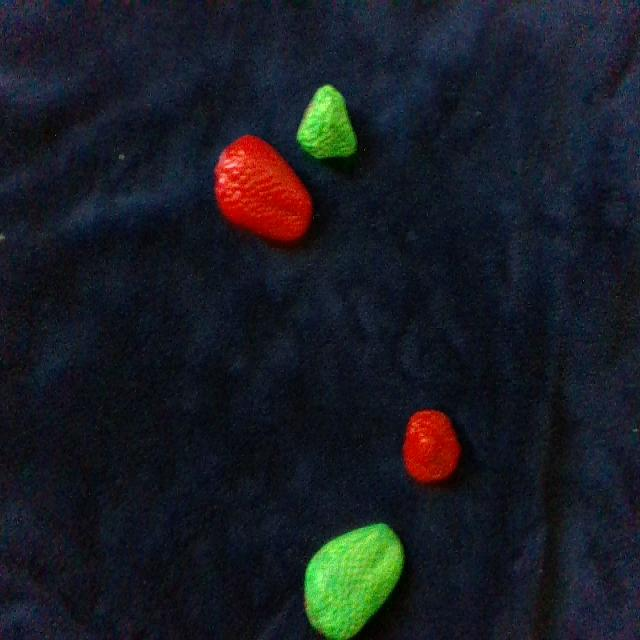chica_roja: (403, 411, 460, 481)
grande_roja: (216, 136, 311, 241)
verde: (305, 525, 403, 639), (297, 85, 356, 157)
